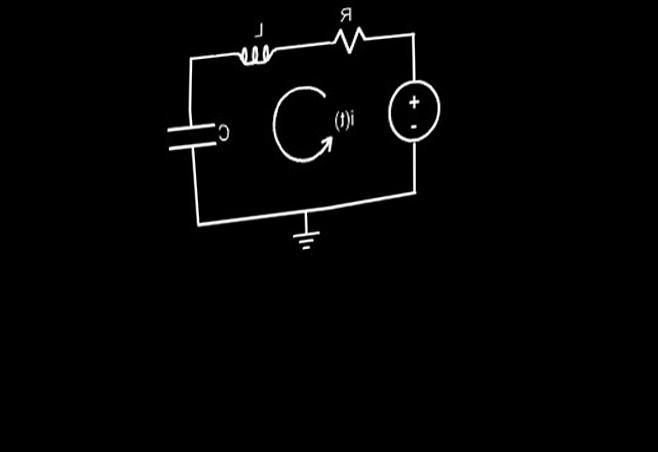Battery: (368, 72, 465, 158)
